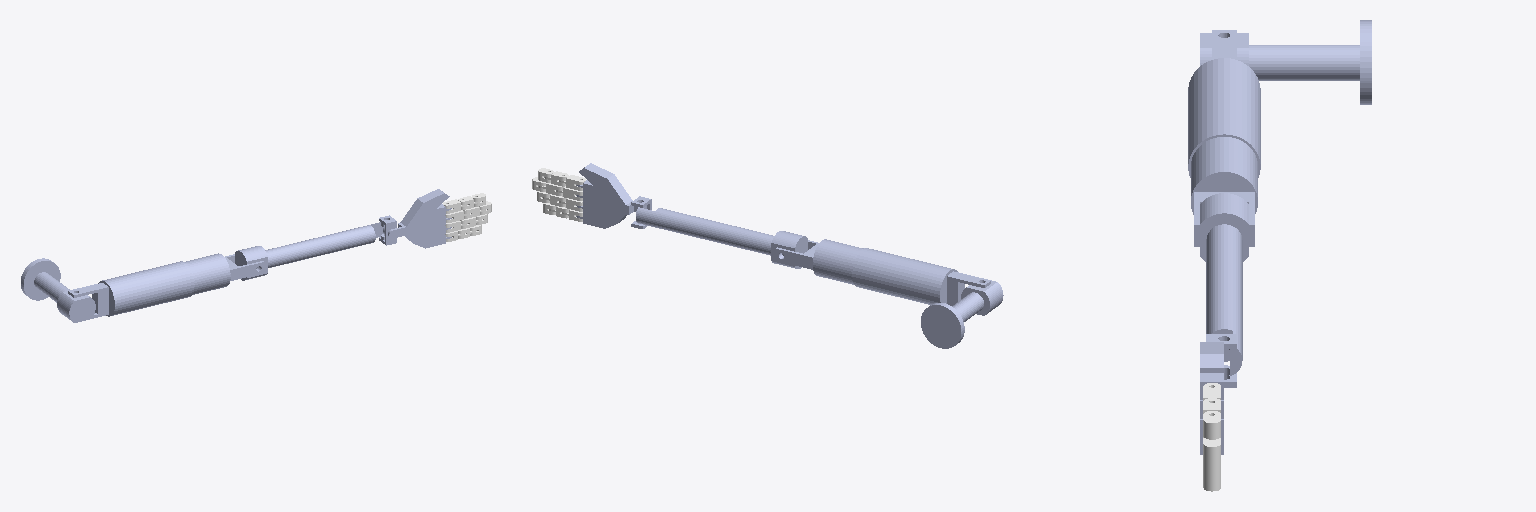
robot.urdf — x_arm_with_calib:
<robot
  name="x_arm_with_calib">

  <link
    name="noInertiaBase"/>
  <joint
    name="base_link_to_noInertiaBase"
    type="fixed">
    <origin
      xyz="0 0 0"
      rpy="0 0 0" />
    <parent
      link="noInertiaBase" />
    <child
      link="base_link" />
  </joint>


  <link
    name="base_link">
    <inertial>
      <origin
        xyz="-3.7212E-20 0.075953 -3.7483E-34"
        rpy="0 0 0" />
      <mass
        value="0.11765" />
      <inertia
        ixx="0"
        ixy="0"
        ixz="0"
        iyy="0"
        iyz="0"
        izz="0" />
    </inertial>
    <visual>
      <origin
        xyz="0 0 0"
        rpy="0 0 0" />
      <geometry>
        <mesh
          filename="package://x_arm/meshes/base_link.STL" />
      </geometry>
      <material
        name="">
        <color
          rgba="0.79216 0.81961 0.93333 1" />
      </material>
    </visual>
    <collision>
      <origin
        xyz="0 0 0"
        rpy="0 0 0" />
      <geometry>
        <mesh
          filename="package://x_arm/meshes/base_link.STL" />
      </geometry>
    </collision>
  </link>
  <link
    name="link1">
    <inertial>
      <origin
        xyz="2.5479E-09 3.2756E-09 0.0025605"
        rpy="0 0 0" />
      <mass
        value="0.054247" />
      <inertia
        ixx="0"
        ixy="0"
        ixz="0"
        iyy="0"
        iyz="0"
        izz="0" />
    </inertial>
    <visual>
      <origin
        xyz="0 0 0"
        rpy="0 0 0" />
      <geometry>
        <mesh
          filename="package://x_arm/meshes/link1.STL" />
      </geometry>
      <material
        name="">
        <color
          rgba="0.79216 0.81961 0.93333 1" />
      </material>
    </visual>
    <collision>
      <origin
        xyz="0 0 0"
        rpy="0 0 0" />
      <geometry>
        <mesh
          filename="package://x_arm/meshes/link1.STL" />
      </geometry>
    </collision>
  </link>
  <joint
    name="joint_axis_link1_to_base"
    type="revolute">
    <origin
      xyz="0 0 0"
      rpy="1.5708 1.1818E-16 0" />
    <parent
      link="base_link" />
    <child
      link="link1" />
    <axis
      xyz="0 0 1" />
    <limit
      lower="-0.523"
      upper="2.093"
      effort="1"
      velocity="5" />
  </joint>
  <link
    name="link2">
    <inertial>
      <origin
        xyz="2.6826E-20 -0.12413 -1.3974E-17"
        rpy="0 0 0" />
      <mass
        value="0.45233" />
      <inertia
        ixx="0"
        ixy="0"
        ixz="0"
        iyy="0"
        iyz="0"
        izz="0" />
    </inertial>
    <visual>
      <origin
        xyz="0 0 0"
        rpy="0 0 0" />
      <geometry>
        <mesh
          filename="package://x_arm/meshes/link2.STL" />
      </geometry>
      <material
        name="">
        <color
          rgba="0.79216 0.81961 0.93333 1" />
      </material>
    </visual>
    <collision>
      <origin
        xyz="0 0 0"
        rpy="0 0 0" />
      <geometry>
        <mesh
          filename="package://x_arm/meshes/link2.STL" />
      </geometry>
    </collision>
  </link>
  <joint
    name="joint_axis_link2_to_link1"
    type="revolute">
    <origin
      xyz="0 0 0"
      rpy="1.5708 -1.5708 0" />
    <parent
      link="link1" />
    <child
      link="link2" />
    <axis
      xyz="0 0 1" />
    <limit
      lower="-0.349"
      upper="2.093"
      effort="1"
      velocity="5" />
  </joint>
  <link
    name="link3">
    <inertial>
      <origin
        xyz="1.8042E-19 1.8654E-18 -0.042229"
        rpy="0 0 0" />
      <mass
        value="0.19865" />
      <inertia
        ixx="0"
        ixy="0"
        ixz="0"
        iyy="0"
        iyz="0"
        izz="0" />
    </inertial>
    <visual>
      <origin
        xyz="0 0 0"
        rpy="0 0 0" />
      <geometry>
        <mesh
          filename="package://x_arm/meshes/link3.STL" />
      </geometry>
      <material
        name="">
        <color
          rgba="0.79216 0.81961 0.93333 1" />
      </material>
    </visual>
    <collision>
      <origin
        xyz="0 0 0"
        rpy="0 0 0" />
      <geometry>
        <mesh
          filename="package://x_arm/meshes/link3.STL" />
      </geometry>
    </collision>
  </link>
  <joint
    name="joint_axis_link3_to_link2"
    type="revolute">
    <origin
      xyz="0 -0.205 0"
      rpy="-1.5708 1.5708 0" />
    <parent
      link="link2" />
    <child
      link="link3" />
    <axis
      xyz="0 0 1" />
    <limit
      lower="-1.57"
      upper="1.57"
      effort="1"
      velocity="5" />
  </joint>
  <link
    name="link4">
    <inertial>
      <origin
        xyz="-2.5479E-09 -0.0025605 -3.2756E-09"
        rpy="0 0 0" />
      <mass
        value="0.054247" />
      <inertia
        ixx="0"
        ixy="0"
        ixz="0"
        iyy="0"
        iyz="0"
        izz="0" />
    </inertial>
    <visual>
      <origin
        xyz="0 0 0"
        rpy="0 0 0" />
      <geometry>
        <mesh
          filename="package://x_arm/meshes/link4.STL" />
      </geometry>
      <material
        name="">
        <color
          rgba="0.79216 0.81961 0.93333 1" />
      </material>
    </visual>
    <collision>
      <origin
        xyz="0 0 0"
        rpy="0 0 0" />
      <geometry>
        <mesh
          filename="package://x_arm/meshes/link4.STL" />
      </geometry>
    </collision>
  </link>
  <joint
    name="joint_axis_link4_to_link3"
    type="revolute">
    <origin
      xyz="0 0 -0.1242"
      rpy="-1.5708 6.7516E-18 3.1416" />
    <parent
      link="link3" />
    <child
      link="link4" />
    <axis
      xyz="0 0 1" />
    <limit
      lower="-0.174"
      upper="2.006"
      effort="1"
      velocity="5" />
  </joint>
  <link
    name="link5">
    <inertial>
      <origin
        xyz="-0.0002988 1.525E-08 -0.11718"
        rpy="0 0 0" />
      <mass
        value="0.16504" />
      <inertia
        ixx="0"
        ixy="0"
        ixz="0"
        iyy="0"
        iyz="0"
        izz="0" />
    </inertial>
    <visual>
      <origin
        xyz="0 0 0"
        rpy="0 0 0" />
      <geometry>
        <mesh
          filename="package://x_arm/meshes/link5.STL" />
      </geometry>
      <material
        name="">
        <color
          rgba="0.79216 0.81961 0.93333 1" />
      </material>
    </visual>
    <collision>
      <origin
        xyz="0 0 0"
        rpy="0 0 0" />
      <geometry>
        <mesh
          filename="package://x_arm/meshes/link5.STL" />
      </geometry>
    </collision>
  </link>
  <joint
    name="joint_axis_link5_to_link4"
    type="revolute">
    <origin
      xyz="0 0 0"
      rpy="1.5708 -1.5708 0" />
    <parent
      link="link4" />
    <child
      link="link5" />
    <axis
      xyz="0 0 1" />
    <limit
      lower="-2.093"
      upper="1.919"
      effort="1"
      velocity="5" />
  </joint>




  <link name="calib_link6" />
  <joint
    name="joint_axis_calib_link6_to_link5"
    type="revolute">
    <origin
      xyz="0 0 -0.2555"
      rpy="-1.5708 0 0" />
    <parent
      link="link5" />
    <child
      link="calib_link6" />
    <axis
      xyz="1 0 0" />
    <limit
      lower="-3.14"
      upper="3.14"
      effort="0"
      velocity="0" />
  </joint>


  <link name="calib_link7" />
  <joint
    name="joint_axis_calib_link7_to_calib_link6"
    type="revolute">
    <origin
      xyz="0 0 0"
      rpy="0 0 1.57" />
    <parent
      link="calib_link6" />
    <child
      link="calib_link7" />
    <axis
      xyz="0 0 1" />
    <limit
      lower="-3.14"
      upper="3.14"
      effort="0"
      velocity="0" />
  </joint>





  <link
    name="link6">
    <inertial>
      <origin
        xyz="0 -0.0063647 -2.7595E-17"
        rpy="0 0 0" />
      <mass
        value="0.0080471" />
      <inertia
        ixx="0"
        ixy="0"
        ixz="0"
        iyy="0"
        iyz="0"
        izz="0" />
    </inertial>
    <visual>
      <origin
        xyz="0 0 0"
        rpy="0 0 0" />
      <geometry>
        <mesh
          filename="package://x_arm/meshes/link6.STL" />
      </geometry>
      <material
        name="">
        <color
          rgba="0.79216 0.81961 0.93333 1" />
      </material>
    </visual>
    <collision>
      <origin
        xyz="0 0 0"
        rpy="0 0 0" />
      <geometry>
        <mesh
          filename="package://x_arm/meshes/link6.STL" />
      </geometry>
    </collision>
  </link>
  <joint
    name="joint_axis_link6_to_link5"
    type="revolute">
    <origin
      xyz="0 0 -0.2555"
      rpy="-1.5708 1.5708 0" />
    <parent
      link="link5" />
    <child
      link="link6" />
    <axis
      xyz="0 0 1" />
    <limit
      lower="-0.436"
      upper="1.308"
      effort="1"
      velocity="5" />
  </joint>
  <link
    name="link7">
    <inertial>
      <origin
        xyz="0.066134 0.0024761 0.010104"
        rpy="0 0 0" />
      <mass
        value="0.11118" />
      <inertia
        ixx="0"
        ixy="0"
        ixz="0"
        iyy="0"
        iyz="0"
        izz="0" />
    </inertial>
    <visual>
      <origin
        xyz="0 0 0"
        rpy="0 0 0" />
      <geometry>
        <mesh
          filename="package://x_arm/meshes/link7.STL" />
      </geometry>
      <material
        name="">
        <color
          rgba="0.79216 0.81961 0.93333 1" />
      </material>
    </visual>
    <collision>
      <origin
        xyz="0 0 0"
        rpy="0 0 0" />
      <geometry>
        <mesh
          filename="package://x_arm/meshes/link7.STL" />
      </geometry>
    </collision>
  </link>
  <joint
    name="joint_axis_link7_to_link6"
    type="revolute">
    <origin
      xyz="0 0 0"
      rpy="1.5708 -1.4675E-16 -2.8458E-30" />
    <parent
      link="link6" />
    <child
      link="link7" />
    <axis
      xyz="0 0 1" />
    <limit
      lower="-0.349"
      upper="0.349"
      effort="1"
      velocity="5" />
  </joint>


  <link name="handRoot" />
  <joint
    name="joint_axis_handRoot_to_link7"
    type="fixed">
    <origin
      xyz="0.08 0 -0.03"
      rpy="0 0 0" />
    <parent
      link="link7" />
    <child
      link="handRoot" />
    <axis
      xyz="0 0 1" />
    <limit
      lower="0"
      upper="0"
      effort="0"
      velocity="0" />
  </joint>




  <link
    name="index0">
    <inertial>
      <origin
        xyz="0.011039 0 0"
        rpy="0 0 0" />
      <mass
        value="0.0059808" />
      <inertia
        ixx="0"
        ixy="0"
        ixz="0"
        iyy="0"
        iyz="0"
        izz="0" />
    </inertial>
    <visual>
      <origin
        xyz="0 0 0"
        rpy="0 0 0" />
      <geometry>
        <mesh
          filename="package://x_arm/meshes/index0.STL" />
      </geometry>
      <material
        name="">
        <color
          rgba="1 1 1 1" />
      </material>
    </visual>
    <collision>
      <origin
        xyz="0 0 0"
        rpy="0 0 0" />
      <geometry>
        <mesh
          filename="package://x_arm/meshes/index0.STL" />
      </geometry>
    </collision>
  </link>
  <joint
    name="joint_axis_index0_to_handRoot"
    type="revolute">
    <origin
      xyz="0.0272 0.018935 0.04"
      rpy="2.7373E-17 1.249E-16 1.628E-16" />
    <parent
      link="handRoot" />
    <child
      link="index0" />
    <axis
      xyz="0 1 0" />
    <limit
      lower="0"
      upper="1.57"
      effort="1"
      velocity="5" />
  </joint>
  <link
    name="index1">
    <inertial>
      <origin
        xyz="0.0084961 0 0"
        rpy="0 0 0" />
      <mass
        value="0.0048558" />
      <inertia
        ixx="0"
        ixy="0"
        ixz="0"
        iyy="0"
        iyz="0"
        izz="0" />
    </inertial>
    <visual>
      <origin
        xyz="0 0 0"
        rpy="0 0 0" />
      <geometry>
        <mesh
          filename="package://x_arm/meshes/index1.STL" />
      </geometry>
      <material
        name="">
        <color
          rgba="1 1 1 1" />
      </material>
    </visual>
    <collision>
      <origin
        xyz="0 0 0"
        rpy="0 0 0" />
      <geometry>
        <mesh
          filename="package://x_arm/meshes/index1.STL" />
      </geometry>
    </collision>
  </link>
  <joint
    name="joint_axis_index1_to_index0"
    type="revolute">
    <origin
      xyz="0.03 0 0"
      rpy="-2.549E-18 -1.249E-16 -1.5991E-16" />
    <parent
      link="index0" />
    <child
      link="index1" />
    <axis
      xyz="0 1 0" />
    <limit
      lower="0"
      upper="1.57"
      effort="1"
      velocity="5" />
  </joint>
  <link
    name="index2">
    <inertial>
      <origin
        xyz="0.0059176 3.4694E-18 0"
        rpy="0 0 0" />
      <mass
        value="0.00404" />
      <inertia
        ixx="0"
        ixy="0"
        ixz="0"
        iyy="0"
        iyz="0"
        izz="0" />
    </inertial>
    <visual>
      <origin
        xyz="0 0 0"
        rpy="0 0 0" />
      <geometry>
        <mesh
          filename="package://x_arm/meshes/index2.STL" />
      </geometry>
      <material
        name="">
        <color
          rgba="1 1 1 1" />
      </material>
    </visual>
    <collision>
      <origin
        xyz="0 0 0"
        rpy="0 0 0" />
      <geometry>
        <mesh
          filename="package://x_arm/meshes/index2.STL" />
      </geometry>
    </collision>
  </link>
  <joint
    name="joint_axis_index2_to_index1"
    type="revolute">
    <origin
      xyz="0.025 0 0"
      rpy="-2.5487E-17 1.6653E-16 -1.6385E-17" />
    <parent
      link="index1" />
    <child
      link="index2" />
    <axis
      xyz="0 1 0" />
    <limit
      lower="0"
      upper="1.57"
      effort="1"
      velocity="5" />
  </joint>
  <link
    name="middle0">
    <inertial>
      <origin
        xyz="0.013569 -2.1684E-19 1.7347E-18"
        rpy="0 0 0" />
      <mass
        value="0.0071058" />
      <inertia
        ixx="0"
        ixy="0"
        ixz="0"
        iyy="0"
        iyz="0"
        izz="0" />
    </inertial>
    <visual>
      <origin
        xyz="0 0 0"
        rpy="0 0 0" />
      <geometry>
        <mesh
          filename="package://x_arm/meshes/middle0.STL" />
      </geometry>
      <material
        name="">
        <color
          rgba="1 1 1 1" />
      </material>
    </visual>
    <collision>
      <origin
        xyz="0 0 0"
        rpy="0 0 0" />
      <geometry>
        <mesh
          filename="package://x_arm/meshes/middle0.STL" />
      </geometry>
    </collision>
  </link>
  <joint
    name="joint_axis_middle0_to_handRoot"
    type="revolute">
    <origin
      xyz="0.0272 0.0019352 0.04"
      rpy="2.6352E-22 1.1102E-16 6.2949E-22" />
    <parent
      link="handRoot" />
    <child
      link="middle0" />
    <axis
      xyz="0 1 0" />
    <limit
      lower="0"
      upper="1.57"
      effort="1"
      velocity="5" />
  </joint>
  <link
    name="middle1">
    <inertial>
      <origin
        xyz="0.011039 4.3368E-19 3.4694E-18"
        rpy="0 0 0" />
      <mass
        value="0.0059808" />
      <inertia
        ixx="0"
        ixy="0"
        ixz="0"
        iyy="0"
        iyz="0"
        izz="0" />
    </inertial>
    <visual>
      <origin
        xyz="0 0 0"
        rpy="0 0 0" />
      <geometry>
        <mesh
          filename="package://x_arm/meshes/middle1.STL" />
      </geometry>
      <material
        name="">
        <color
          rgba="1 1 1 1" />
      </material>
    </visual>
    <collision>
      <origin
        xyz="0 0 0"
        rpy="0 0 0" />
      <geometry>
        <mesh
          filename="package://x_arm/meshes/middle1.STL" />
      </geometry>
    </collision>
  </link>
  <joint
    name="joint_axis_middle1_to_middle0"
    type="revolute">
    <origin
      xyz="0.035 0 0"
      rpy="-7.7698E-19 -8.3267E-16 -3.0524E-17" />
    <parent
      link="middle0" />
    <child
      link="middle1" />
    <axis
      xyz="0 1 0" />
    <limit
      lower="0"
      upper="1.57"
      effort="1"
      velocity="5" />
  </joint>
  <link
    name="middle2">
    <inertial>
      <origin
        xyz="0.0059176 0 0"
        rpy="0 0 0" />
      <mass
        value="0.00404" />
      <inertia
        ixx="0"
        ixy="0"
        ixz="0"
        iyy="0"
        iyz="0"
        izz="0" />
    </inertial>
    <visual>
      <origin
        xyz="0 0 0"
        rpy="0 0 0" />
      <geometry>
        <mesh
          filename="package://x_arm/meshes/middle2.STL" />
      </geometry>
      <material
        name="">
        <color
          rgba="1 1 1 1" />
      </material>
    </visual>
    <collision>
      <origin
        xyz="0 0 0"
        rpy="0 0 0" />
      <geometry>
        <mesh
          filename="package://x_arm/meshes/middle2.STL" />
      </geometry>
    </collision>
  </link>
  <joint
    name="joint_axis_middle2_to_middle1"
    type="revolute">
    <origin
      xyz="0.03 0 0"
      rpy="-5.4794E-18 -1.3878E-16 3.3346E-18" />
    <parent
      link="middle1" />
    <child
      link="middle2" />
    <axis
      xyz="0 1 0" />
    <limit
      lower="0"
      upper="1.57"
      effort="1"
      velocity="5" />
  </joint>
  <link
    name="wedding0">
    <inertial>
      <origin
        xyz="0.011039 0 0"
        rpy="0 0 0" />
      <mass
        value="0.0059808" />
      <inertia
        ixx="0"
        ixy="0"
        ixz="0"
        iyy="0"
        iyz="0"
        izz="0" />
    </inertial>
    <visual>
      <origin
        xyz="0 0 0"
        rpy="0 0 0" />
      <geometry>
        <mesh
          filename="package://x_arm/meshes/wedding0.STL" />
      </geometry>
      <material
        name="">
        <color
          rgba="1 1 1 1" />
      </material>
    </visual>
    <collision>
      <origin
        xyz="0 0 0"
        rpy="0 0 0" />
      <geometry>
        <mesh
          filename="package://x_arm/meshes/wedding0.STL" />
      </geometry>
    </collision>
  </link>
  <joint
    name="joint_axis_wedding0_to_handRoot"
    type="revolute">
    <origin
      xyz="0.0272 -0.015065 0.04"
      rpy="-4.3009E-19 2.8366E-30 -1.6011E-17" />
    <parent
      link="handRoot" />
    <child
      link="wedding0" />
    <axis
      xyz="0 1 0" />
    <limit
      lower="0"
      upper="1.57"
      effort="1"
      velocity="5" />
  </joint>
  <link
    name="wedding1">
    <inertial>
      <origin
        xyz="0.010024 0 0"
        rpy="0 0 0" />
      <mass
        value="0.0055308" />
      <inertia
        ixx="0"
        ixy="0"
        ixz="0"
        iyy="0"
        iyz="0"
        izz="0" />
    </inertial>
    <visual>
      <origin
        xyz="0 0 0"
        rpy="0 0 0" />
      <geometry>
        <mesh
          filename="package://x_arm/meshes/wedding1.STL" />
      </geometry>
      <material
        name="">
        <color
          rgba="1 1 1 1" />
      </material>
    </visual>
    <collision>
      <origin
        xyz="0 0 0"
        rpy="0 0 0" />
      <geometry>
        <mesh
          filename="package://x_arm/meshes/wedding1.STL" />
      </geometry>
    </collision>
  </link>
  <joint
    name="joint_axis_wedding1_to_wedding0"
    type="revolute">
    <origin
      xyz="0.03 0 0"
      rpy="-6.4346E-18 -1.1102E-16 3.1561E-17" />
    <parent
      link="wedding0" />
    <child
      link="wedding1" />
    <axis
      xyz="0 1 0" />
    <limit
      lower="0"
      upper="1.57"
      effort="1"
      velocity="5" />
  </joint>
  <link
    name="wedding2">
    <inertial>
      <origin
        xyz="0.0059176 3.4694E-18 -1.7347E-18"
        rpy="0 0 0" />
      <mass
        value="0.00404" />
      <inertia
        ixx="0"
        ixy="0"
        ixz="0"
        iyy="0"
        iyz="0"
        izz="0" />
    </inertial>
    <visual>
      <origin
        xyz="0 0 0"
        rpy="0 0 0" />
      <geometry>
        <mesh
          filename="package://x_arm/meshes/wedding2.STL" />
      </geometry>
      <material
        name="">
        <color
          rgba="1 1 1 1" />
      </material>
    </visual>
    <collision>
      <origin
        xyz="0 0 0"
        rpy="0 0 0" />
      <geometry>
        <mesh
          filename="package://x_arm/meshes/wedding2.STL" />
      </geometry>
    </collision>
  </link>
  <joint
    name="joint_axis_wedding2_to_wedding1"
    type="revolute">
    <origin
      xyz="0.028 0 0"
      rpy="-4.7986E-18 -1.6653E-16 -6.0053E-18" />
    <parent
      link="wedding1" />
    <child
      link="wedding2" />
    <axis
      xyz="0 1 0" />
    <limit
      lower="0"
      upper="1.57"
      effort="1"
      velocity="5" />
  </joint>
  <link
    name="little0">
    <inertial>
      <origin
        xyz="0.0084961 0 -1.7347E-18"
        rpy="0 0 0" />
      <mass
        value="0.0048558" />
      <inertia
        ixx="0"
        ixy="0"
        ixz="0"
        iyy="0"
        iyz="0"
        izz="0" />
    </inertial>
    <visual>
      <origin
        xyz="0 0 0"
        rpy="0 0 0" />
      <geometry>
        <mesh
          filename="package://x_arm/meshes/little0.STL" />
      </geometry>
      <material
        name="">
        <color
          rgba="1 1 1 1" />
      </material>
    </visual>
    <collision>
      <origin
        xyz="0 0 0"
        rpy="0 0 0" />
      <geometry>
        <mesh
          filename="package://x_arm/meshes/little0.STL" />
      </geometry>
    </collision>
  </link>
  <joint
    name="joint_axis_joint0_to_handRoot"
    type="revolute">
    <origin
      xyz="0.0272 -0.032065 0.04"
      rpy="3.7775E-21 2.8458E-30 -2.7162E-21" />
    <parent
      link="handRoot" />
    <child
      link="little0" />
    <axis
      xyz="0 1 0" />
    <limit
      lower="0"
      upper="1.57"
      effort="1"
      velocity="5" />
  </joint>
  <link
    name="little1">
    <inertial>
      <origin
        xyz="0.006959 0 1.7347E-18"
        rpy="0 0 0" />
      <mass
        value="0.0041808" />
      <inertia
        ixx="0"
        ixy="0"
        ixz="0"
        iyy="0"
        iyz="0"
        izz="0" />
    </inertial>
    <visual>
      <origin
        xyz="0 0 0"
        rpy="0 0 0" />
      <geometry>
        <mesh
          filename="package://x_arm/meshes/little1.STL" />
      </geometry>
      <material
        name="">
        <color
          rgba="1 1 1 1" />
      </material>
    </visual>
    <collision>
      <origin
        xyz="0 0 0"
        rpy="0 0 0" />
      <geometry>
        <mesh
          filename="package://x_arm/meshes/little1.STL" />
      </geometry>
    </collision>
  </link>
  <joint
    name="joint_axis_little1_to_little0"
    type="revolute">
    <origin
      xyz="0.025 0 0"
      rpy="1.1852E-17 -1.6653E-16 1.0389E-17" />
    <parent
      link="little0" />
    <child
      link="little1" />
    <axis
      xyz="0 1 0" />
    <limit
      lower="0"
      upper="1.57"
      effort="1"
      velocity="5" />
  </joint>
  <link
    name="little2">
    <inertial>
      <origin
        xyz="0.0059176 0 0"
        rpy="0 0 0" />
      <mass
        value="0.00404" />
      <inertia
        ixx="0"
        ixy="0"
        ixz="0"
        iyy="0"
        iyz="0"
        izz="0" />
    </inertial>
    <visual>
      <origin
        xyz="0 0 0"
        rpy="0 0 0" />
      <geometry>
        <mesh
          filename="package://x_arm/meshes/little2.STL" />
      </geometry>
      <material
        name="">
        <color
          rgba="1 1 1 1" />
      </material>
    </visual>
    <collision>
      <origin
        xyz="0 0 0"
        rpy="0 0 0" />
      <geometry>
        <mesh
          filename="package://x_arm/meshes/little2.STL" />
      </geometry>
    </collision>
  </link>
  <joint
    name="joint_axis_little2_to_little1"
    type="revolute">
    <origin
      xyz="0.022 0 0"
      rpy="1.0004E-17 -3.8858E-16 -7.9481E-18" />
    <parent
      link="little1" />
    <child
      link="little2" />
    <axis
      xyz="0 1 0" />
    <limit
      lower="0"
      upper="1.57"
      effort="1"
      velocity="5" />
  </joint>
</robot>

--- Facts derived from the render (not from the file) ---
3 views of the same robot in one strip: view 1: azimuth 30°, elevation 25°; view 2: azimuth 150°, elevation 25°; view 3: azimuth 270°, elevation 25° (orthographic).
Robot: x_arm_with_calib — 24 links, 23 joints (21 revolute, 2 fixed); root link noInertiaBase; default pose: all joints at 0.
Links seen in each view (by area): view 1: link2, link7, link5, link3, base_link, link1, link4; view 2: link2, link5, link7, link3, base_link, link4, link1; view 3: link2, base_link, link5, link3, link4, link7, link1.
Link boxes in pixels (box(x1,y1,x2,y2)): link2: box(68, 261, 194, 318); link7: box(388, 189, 451, 248); link5: box(256, 222, 384, 268); link3: box(185, 253, 263, 294); base_link: box(21, 258, 69, 302); link1: box(57, 288, 95, 322); link4: box(235, 246, 267, 280); link2: box(852, 248, 990, 305); link5: box(636, 206, 783, 255); link7: box(576, 163, 637, 228); link3: box(776, 239, 863, 284); base_link: box(921, 292, 983, 348); link4: box(771, 231, 807, 268); link1: box(961, 278, 1003, 315); link2: box(1188, 30, 1260, 177); base_link: box(1249, 20, 1371, 104); link5: box(1206, 224, 1242, 375); link3: box(1191, 137, 1257, 246); link4: box(1200, 193, 1248, 261); link7: box(1200, 342, 1223, 454); link1: box(1200, 33, 1248, 65).
Size in the robot's own frame: 0.8094 by 0.1519 by 0.0913 metres.
20 mesh visuals loaded from 20 distinct referenced files (20 binary STL).
